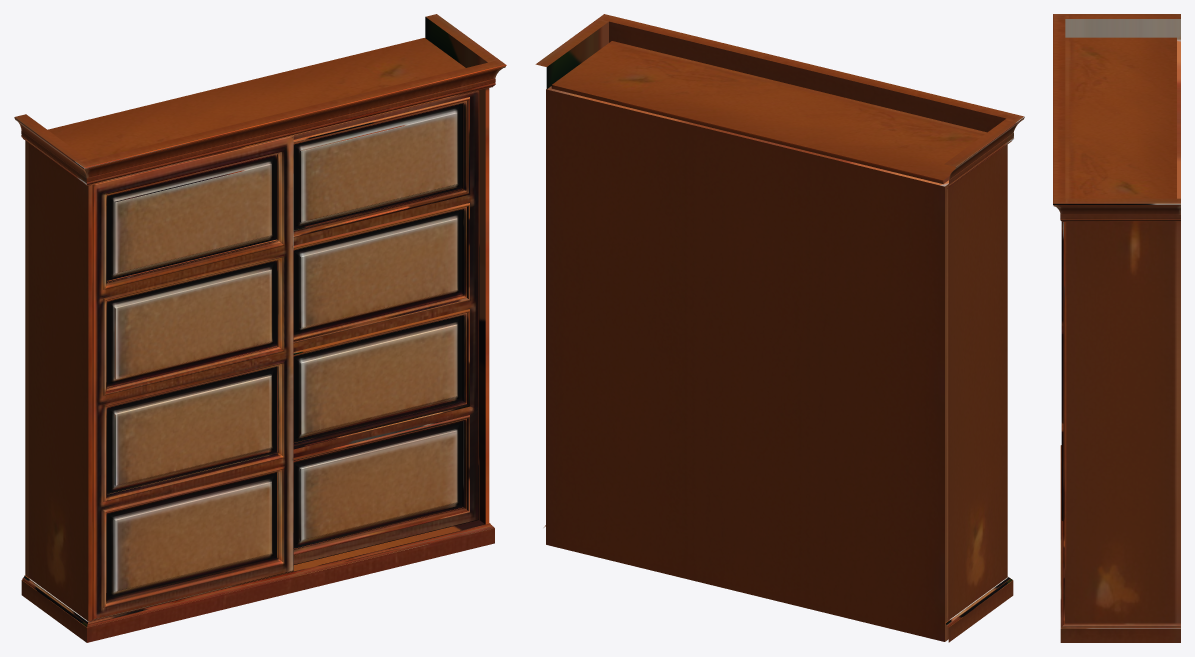
The model's file is edited_mesh.glb.
The picture shows the model from 3 angles, left to right: view 1: azimuth 30°, elevation 25°; view 2: azimuth 150°, elevation 25°; view 3: azimuth 270°, elevation 25°; orthographic projection. The views are drawn at different scales.
Visible parts, largest first — view 1: normalized_model.obj; view 2: normalized_model.obj; view 3: normalized_model.obj.
Part boxes in pixels (<box>): normalized_model.obj: <box>14,14,506,642</box>; normalized_model.obj: <box>535,14,1024,642</box>; normalized_model.obj: <box>1053,14,1180,642</box>.
Bounding box in the file's own units: 1.26 × 1.37 × 0.359.
1 material, 1 textured.
